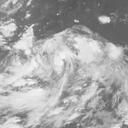cyclone: (34, 35, 83, 82)
